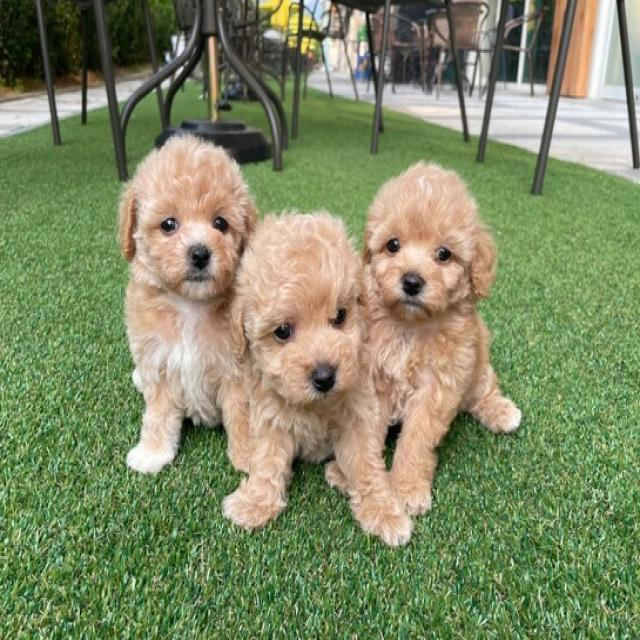dogs: (374, 136, 523, 506), (249, 192, 373, 536), (127, 139, 244, 420)
